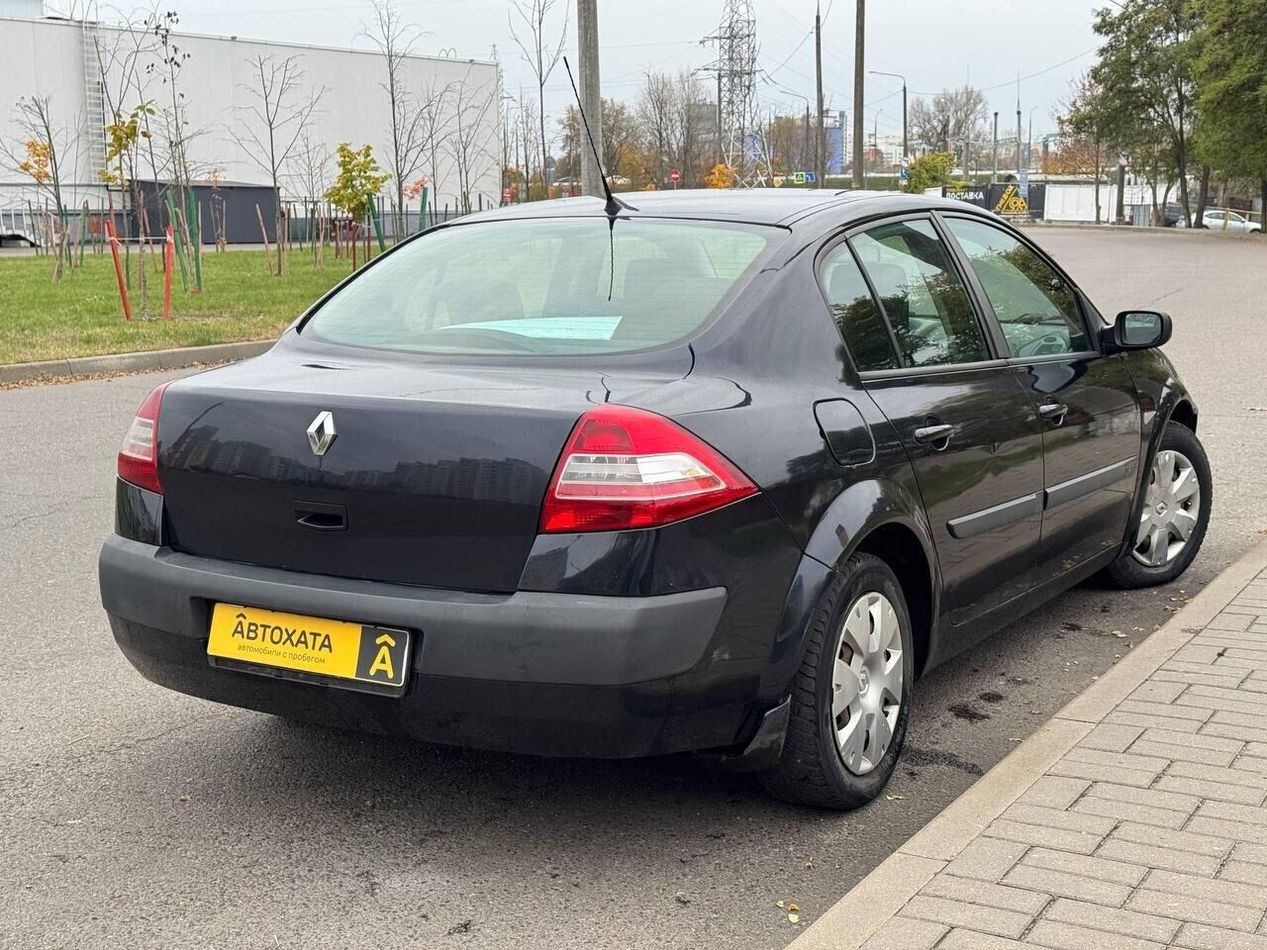Megane_2005-2009: (92, 179, 1216, 815)
